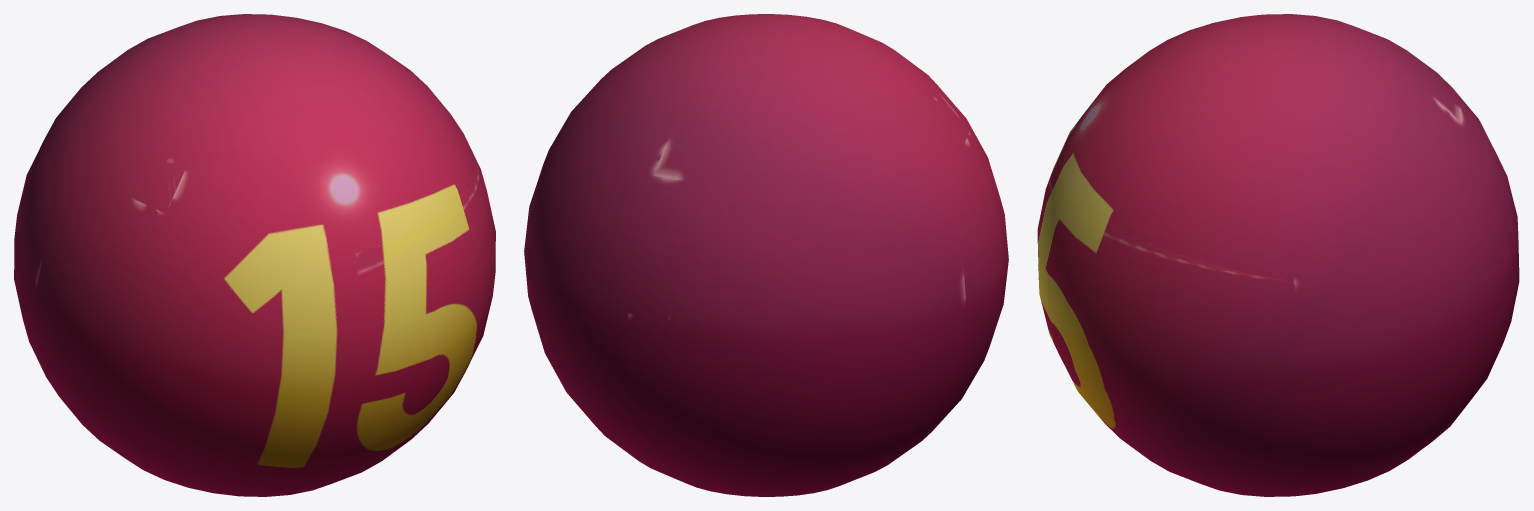
The model's file is Enemy 15.fbx.
3 views of the same model, side by side, from view 1: azimuth 30°, elevation 25°; view 2: azimuth 150°, elevation 25°; view 3: azimuth 270°, elevation 25° (orthographic).
Parts seen in each view (by area): view 1: Body 1.014; view 2: Body 1.014; view 3: Body 1.014.
Part boxes in pixels (x1,y1,x2,y2): Body 1.014: [14, 14, 495, 496]; Body 1.014: [524, 14, 1008, 496]; Body 1.014: [1037, 14, 1519, 496].
Bounding box in the file's own units: 472 × 474 × 472.
Materials: 1 (1 with a texture image).
